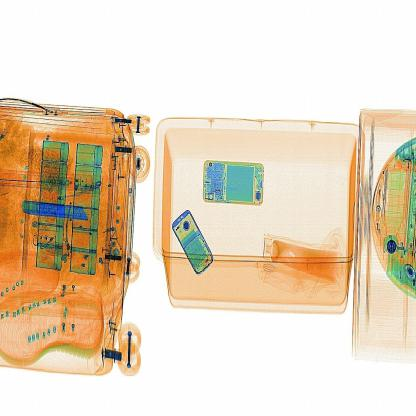pliers: (14, 186, 94, 228)
